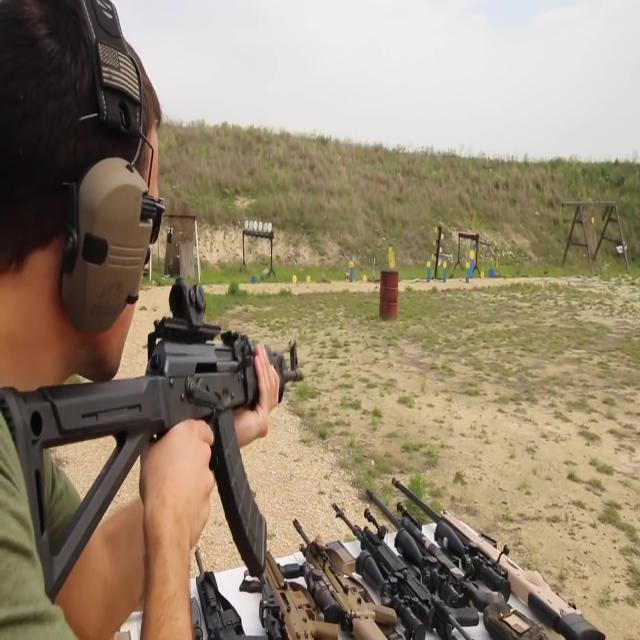Weapon: (2, 260, 307, 600), (138, 451, 608, 640)
